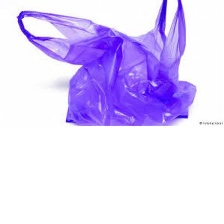plastic_bag: (13, 0, 199, 130)
